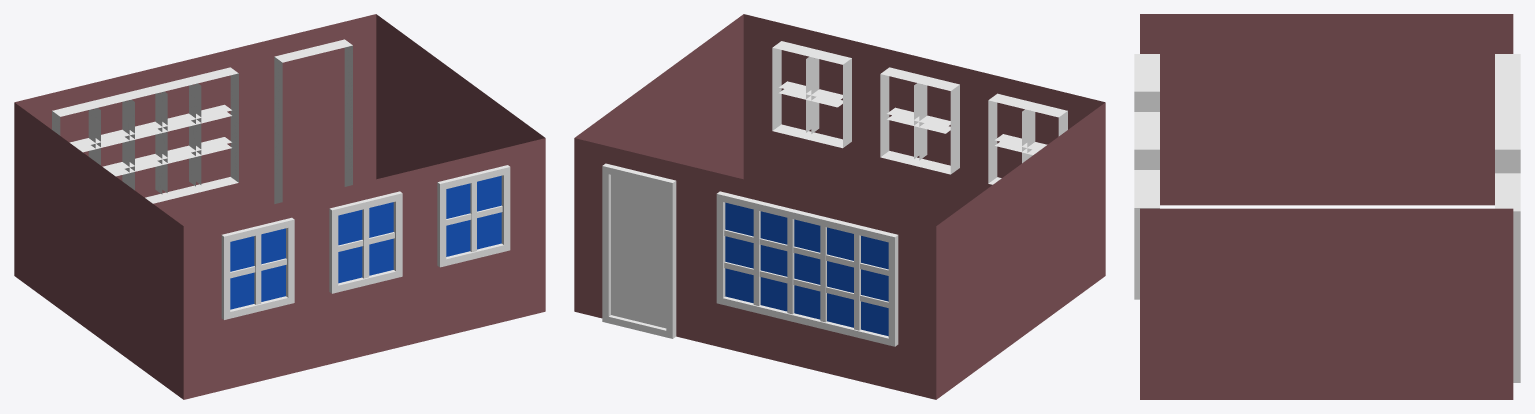
File: CityBuildingB_04_base.fbx
3 views of the same model, side by side, from view 1: azimuth 30°, elevation 25°; view 2: azimuth 150°, elevation 25°; view 3: azimuth 270°, elevation 25° (orthographic). The views are drawn at different scales.
Visible parts, largest first — view 1: CityBuildingB_04_base; view 2: CityBuildingB_04_base; view 3: CityBuildingB_04_base.
Boxes of the visible parts, x1,y1,x2,y2 form: CityBuildingB_04_base: (14,14,545,399); CityBuildingB_04_base: (574,14,1105,399); CityBuildingB_04_base: (1134,14,1520,399).
Size of the model in its own units: 0.6706 by 0.3075 by 0.563.
